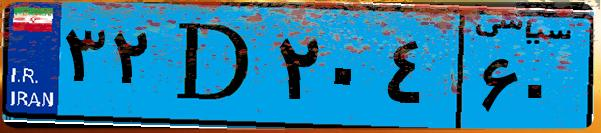0: (330, 28, 385, 110), (525, 38, 570, 115)
2: (270, 28, 330, 110), (110, 28, 158, 98)
3: (57, 26, 110, 100)
4: (385, 28, 445, 110)
6: (475, 38, 525, 113)
D: (158, 12, 270, 120)
